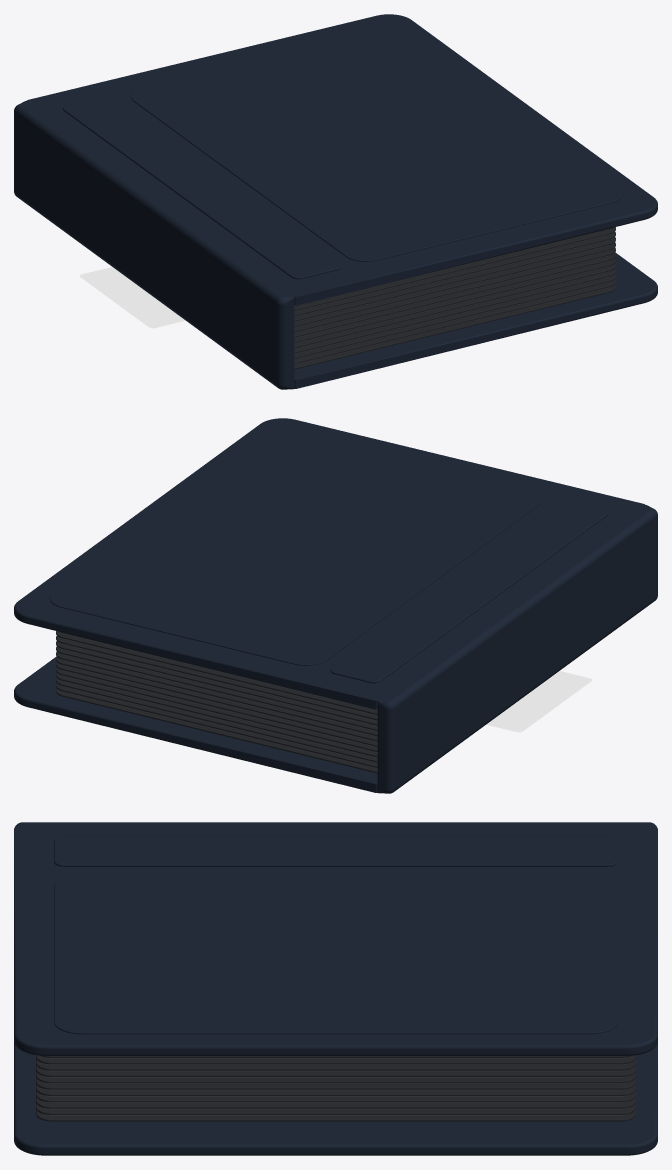
Rendered from album-14h.glb.
The picture shows the model from 3 angles, top to bottom: view 1: azimuth 30°, elevation 25°; view 2: azimuth 150°, elevation 25°; view 3: azimuth 270°, elevation 25°; orthographic projection. The views are drawn at different scales.
Parts seen in each view (by area): view 1: Tapa_Panel, Lomo, Tapa_Malla, Tapa_Banda, Contratapa, Plantilla_Carta_F, Hoja_13_Losa, Hoja_6_Losa, Hoja_7_Losa, Hoja_11_Losa, Hoja_12_Losa, Hoja_3_Losa (+6 smaller); view 2: Tapa_Panel, Lomo, Tapa_Malla, Tapa_Banda, Contratapa, Plantilla_Carta_F, Hoja_13_Losa, Hoja_6_Losa, Hoja_7_Losa, Hoja_11_Losa, Hoja_12_Losa, Hoja_3_Losa (+6 smaller); view 3: Tapa_Panel, Tapa_Malla, Contratapa, Tapa_Banda, Lomo, Hoja_7_Losa, Hoja_8_Losa, Hoja_5_Losa, Hoja_6_Losa, Hoja_9_Losa, Hoja_10_Losa, Hoja_11_Losa (+4 smaller).
Part boxes in pixels (box(x1,y1,x2,y2)): Tapa_Panel: box(130, 29, 622, 261); Lomo: box(14, 101, 294, 389); Tapa_Malla: box(26, 14, 657, 305); Tapa_Banda: box(63, 96, 341, 279); Contratapa: box(294, 252, 657, 388); Plantilla_Carta_F: box(79, 267, 185, 328); Hoja_13_Losa: box(294, 285, 615, 369); Hoja_6_Losa: box(294, 247, 615, 332); Hoja_7_Losa: box(294, 253, 615, 337); Hoja_11_Losa: box(294, 274, 615, 358); Hoja_12_Losa: box(294, 279, 615, 363); Hoja_3_Losa: box(294, 232, 615, 316); Tapa_Panel: box(49, 433, 541, 665); Lomo: box(377, 505, 657, 793); Tapa_Malla: box(14, 418, 645, 709); Tapa_Banda: box(330, 500, 608, 683); Contratapa: box(14, 656, 377, 792); Plantilla_Carta_F: box(486, 671, 592, 732); Hoja_13_Losa: box(56, 689, 377, 773); Hoja_6_Losa: box(56, 651, 377, 736); Hoja_7_Losa: box(56, 657, 377, 741); Hoja_11_Losa: box(56, 678, 377, 762); Hoja_12_Losa: box(56, 683, 377, 767); Hoja_3_Losa: box(56, 636, 377, 720); Tapa_Panel: box(54, 873, 617, 1034); Tapa_Malla: box(14, 828, 657, 1055); Contratapa: box(14, 1042, 657, 1155); Tapa_Banda: box(54, 836, 617, 866); Lomo: box(14, 822, 657, 828); Hoja_7_Losa: box(36, 1071, 635, 1083); Hoja_8_Losa: box(36, 1077, 635, 1089); Hoja_5_Losa: box(36, 1058, 635, 1070); Hoja_6_Losa: box(36, 1064, 635, 1076); Hoja_9_Losa: box(36, 1083, 635, 1095); Hoja_10_Losa: box(36, 1090, 635, 1102); Hoja_11_Losa: box(36, 1096, 635, 1108).
Bounding box in the file's own units: 0.2895 × 0.0622 × 0.322.
